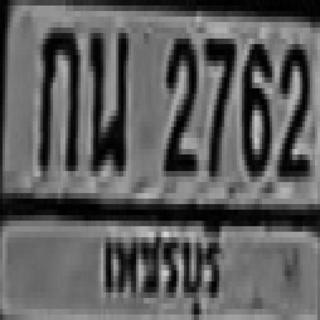A01: (37, 22, 77, 166)
A25: (87, 25, 127, 168)
N02: (163, 36, 195, 168), (277, 38, 307, 171)
N06: (239, 38, 270, 171)
N07: (202, 33, 234, 171)
P44: (93, 215, 227, 320)
